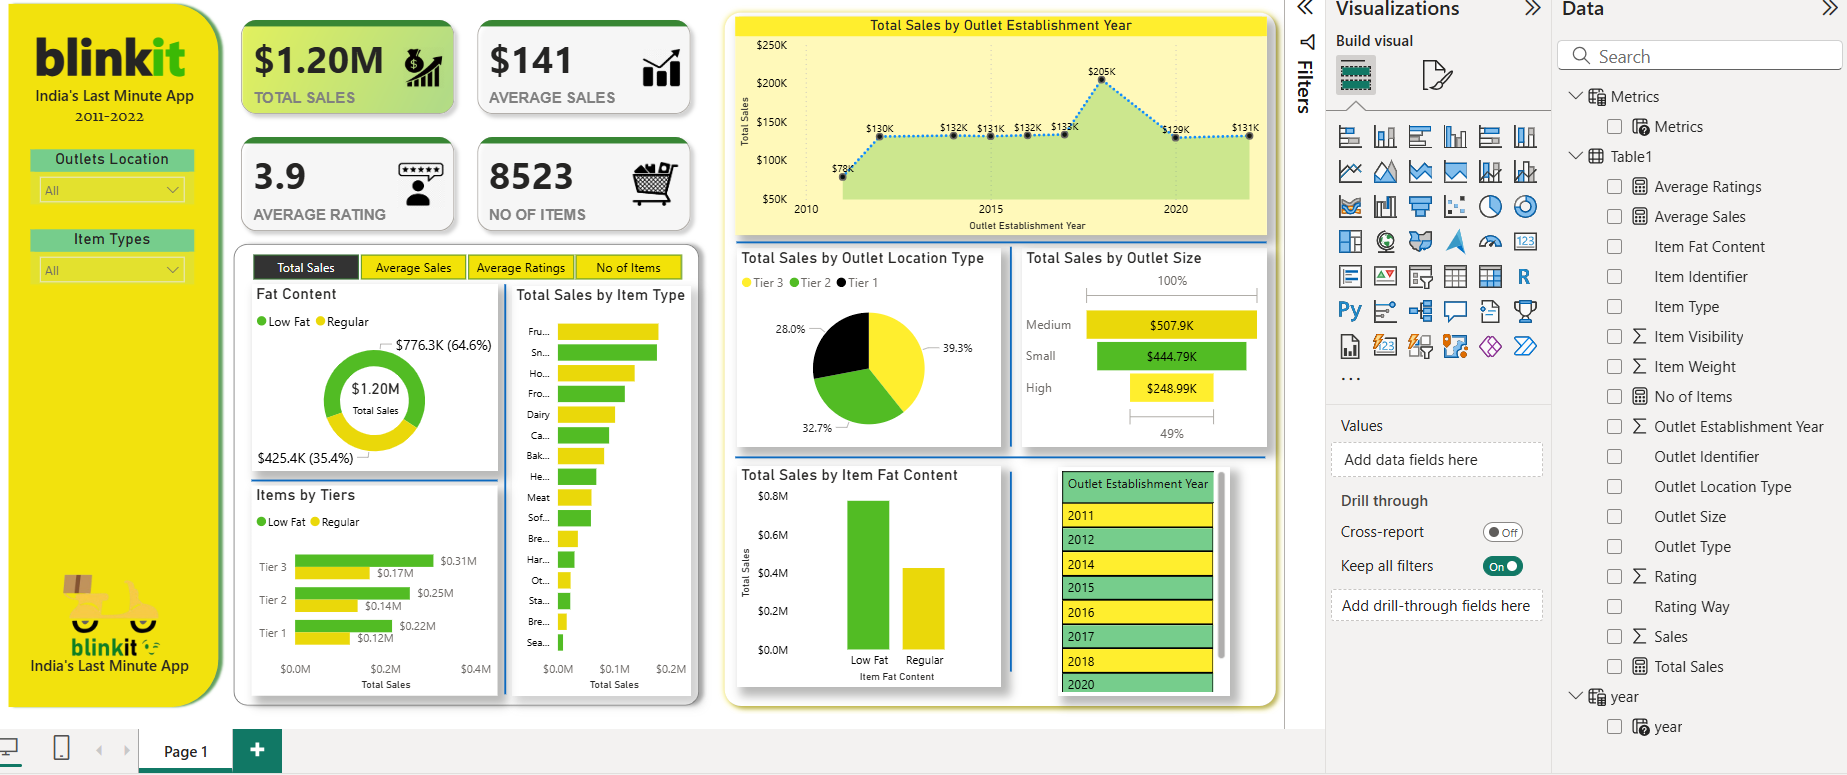

This screenshot's page, from the dashboard's own definition file:
{"tool":"powerbi","page":{"name":"Page 1","canvas":[1400,800],"ordinal":0},"visuals":[{"type":"shape","box":[24.1,14.7,239.9,769.4],"z":0},{"type":"textbox","box":[49.6,36.2,181,83.1],"z":1000},{"type":"textbox","title":"India''s Last Minute App ","box":[55,108.6,181,21.4],"z":2000},{"type":"cardVisual","fields":{"Data":["Table1.Total Sales","Table1.Average Sales","Table1.Average Ratings","Table1.No of Items"]},"box":[264.1,22.8,517.4,261.4],"z":3000},{"type":"shape","box":[264.1,270.8,517.4,513.4],"z":4000},{"type":"donutChart","title":"Fat Content","fields":{"Y":["Table1.Total Sales"],"Category":["Table1.Item Fat Content"]},"box":[292.4,323.2,264.2,201.2],"z":5000},{"type":"slicer","fields":{"Values":["Metrics.Metrics"]},"box":[268.1,284.2,509.4,40.2],"z":6000},{"type":"card","fields":{"Values":["Table1.Total Sales"]},"box":[389,414.4,73.8,56.3],"z":7000},{"type":"clusteredBarChart","title":"Items by Tiers","fields":{"Y":["Table1.Total Sales"],"Category":["Table1.Outlet Location Type"],"Series":["Table1.Item Fat Content"]},"box":[289.7,539.2,264.2,225.3],"z":8000},{"type":"clusteredBarChart","fields":{"Y":["Table1.Total Sales"],"Category":["Table1.Item Type"]},"box":[571.4,324.6,193.1,439.9],"z":9000},{"type":"shape","box":[292.4,517.7,264.2,32.2],"z":10000},{"type":"shape","box":[553.9,323.2,21.5,439.9],"z":11000},{"type":"shape","box":[791.3,22.8,608.9,761.8],"z":12000},{"type":"image","box":[12.1,566,254.8,233.4],"z":13000},{"type":"lineChart","fields":{"Category":["Table1.Outlet Establishment Year"],"Y":["Table1.Total Sales"]},"box":[811.5,36.2,570,234.7],"z":13001},{"type":"pieChart","fields":{"Category":["Table1.Outlet Location Type"],"Y":["Table1.Total Sales"]},"box":[812.8,284.3,284.3,213.3],"z":13002},{"type":"funnel","fields":{"Category":["Table1.Outlet Size"],"Y":["Table1.Total Sales"]},"box":[1118.6,284.3,262.9,213.3],"z":13003},{"type":"shape","box":[1095.8,283,22.8,214.6],"z":13004},{"type":"shape","box":[812.8,272.3,568.7,12.1],"z":13005},{"type":"clusteredColumnChart","fields":{"Category":["Table1.Item Fat Content"],"Y":["Table1.Total Sales"]},"box":[812.8,517.7,284.3,237.4],"z":13006},{"type":"shape","box":[811.5,503,568.7,12.1],"z":13007},{"type":"textbox","title":"India''s Last Minute App ","box":[49.6,720.3,181.1,21.5],"z":13008},{"type":"pivotTable","fields":{"Rows":["Table1.Outlet Establishment Year"]},"box":[1157.5,519.1,185.1,245.5],"z":13009},{"type":"shape","box":[1095.8,524.4,22.8,214.6],"z":13010},{"type":"slicer","title":"Outlets Location","fields":{"Values":["Table1.Outlet Location Type"]},"box":[52.3,249.5,175.7,59],"z":13012},{"type":"slicer","title":"Item Types","fields":{"Values":["Table1.Item Type"]},"box":[55,340.7,175.7,59],"z":13013},{"type":"textbox","title":"2011-2022","box":[93.9,130.1,92.5,24.1],"z":13014},{"type":"textbox","title":"FILTER PANEL","box":[79.1,222.6,130.1,18.8],"z":13015},{"type":"image","box":[52.3,214.6,42.9,34.9],"z":13016},{"type":"textbox","title":"Developed by","box":[85.8,505.7,116.7,21.5],"z":13017},{"type":"textbox","title":"VAISHAK POOJARY","box":[61.7,527.1,163.6,22.8],"z":13018},{"type":"textbox","title":"[email redacted]","box":[29.5,545.6,233.2,22.8],"z":13019},{"type":"textbox","title":"[phone redacted]","box":[81.8,565.7,118,21.4],"z":13020}]}

Visuals, with their boxes in screenshot pixels (x1, y1, x2, y2):
shape: <region>0, 0, 219, 708</region>
textbox: <region>22, 19, 188, 95</region>
"India''s Last Minute App " textbox: <region>27, 86, 193, 105</region>
cardVisual - Table1.Total Sales x Table1.Average Sales: <region>219, 7, 696, 247</region>
shape: <region>219, 235, 696, 708</region>
"Fat Content" donutChart: <region>245, 283, 488, 468</region>
slicer - Metrics.Metrics: <region>223, 247, 692, 284</region>
card - Table1.Total Sales: <region>334, 367, 402, 419</region>
"Items by Tiers" clusteredBarChart: <region>243, 482, 486, 689</region>
clusteredBarChart - Table1.Total Sales x Table1.Item Type: <region>502, 284, 680, 689</region>
shape: <region>245, 462, 488, 492</region>
shape: <region>486, 283, 506, 688</region>
shape: <region>705, 7, 1265, 708</region>
image: <region>0, 507, 222, 722</region>
lineChart - Table1.Outlet Establishment Year x Table1.Total Sales: <region>723, 19, 1248, 235</region>
pieChart - Table1.Outlet Location Type x Table1.Total Sales: <region>724, 247, 986, 444</region>
funnel - Table1.Outlet Size x Table1.Total Sales: <region>1006, 247, 1248, 444</region>
shape: <region>985, 246, 1006, 444</region>
shape: <region>724, 236, 1248, 247</region>
clusteredColumnChart - Table1.Item Fat Content x Table1.Total Sales: <region>724, 462, 986, 681</region>
shape: <region>723, 449, 1247, 460</region>
"India''s Last Minute App " textbox: <region>22, 649, 188, 669</region>
pivotTable - Table1.Outlet Establishment Year: <region>1042, 464, 1212, 690</region>
shape: <region>985, 468, 1006, 666</region>
"Outlets Location" slicer: <region>24, 215, 186, 270</region>
"Item Types" slicer: <region>27, 299, 188, 354</region>
"2011-2022" textbox: <region>62, 105, 148, 128</region>
"FILTER PANEL" textbox: <region>49, 191, 169, 208</region>
image: <region>24, 183, 64, 215</region>
"Developed by" textbox: <region>55, 451, 162, 471</region>
"VAISHAK POOJARY" textbox: <region>33, 471, 183, 492</region>
"[email redacted]" textbox: <region>3, 488, 218, 509</region>
"[phone redacted]" textbox: <region>51, 506, 160, 526</region>
